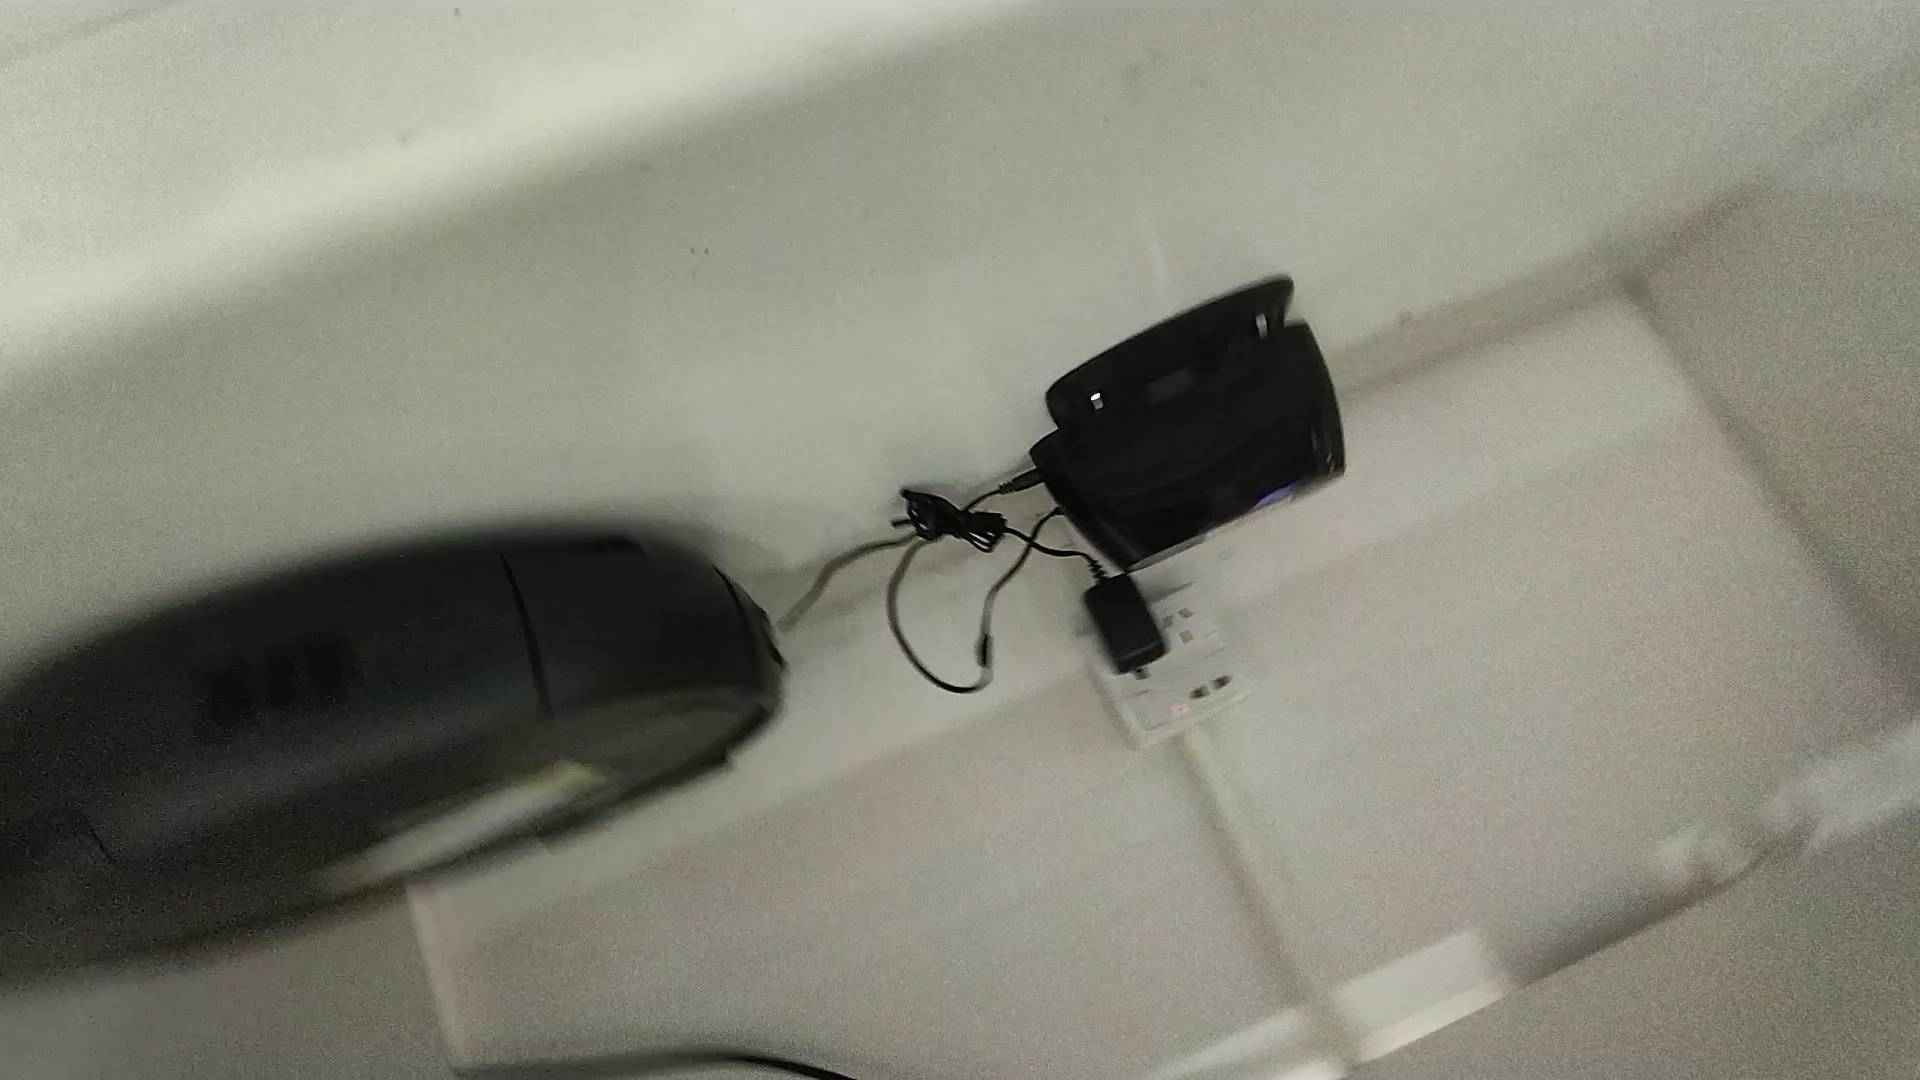recharge seat: (1030, 276, 1350, 571)
